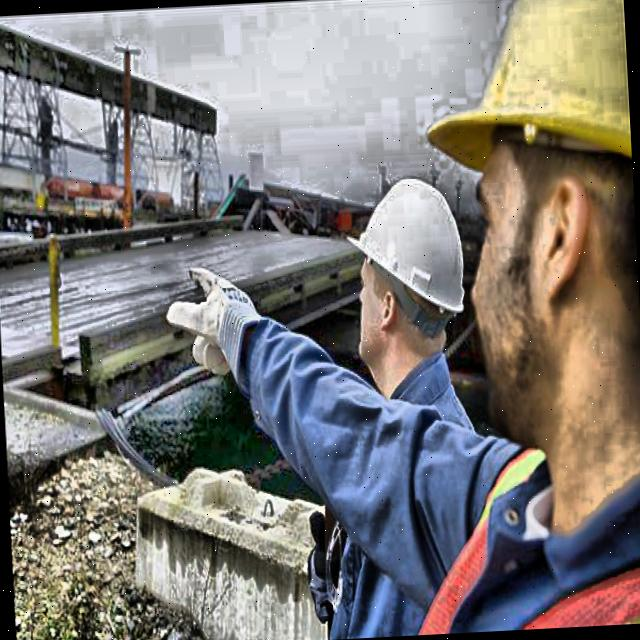helmet: (419, 0, 640, 459), (340, 168, 471, 373)
